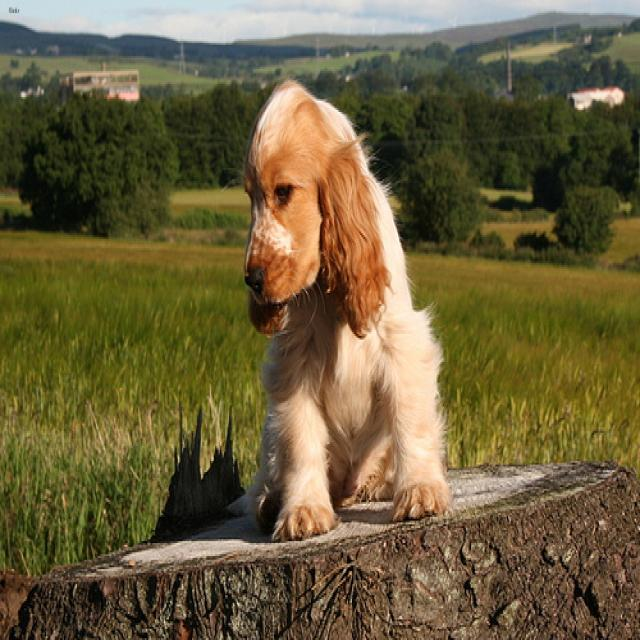dog-english_cocker_spaniel: (221, 75, 454, 545)
